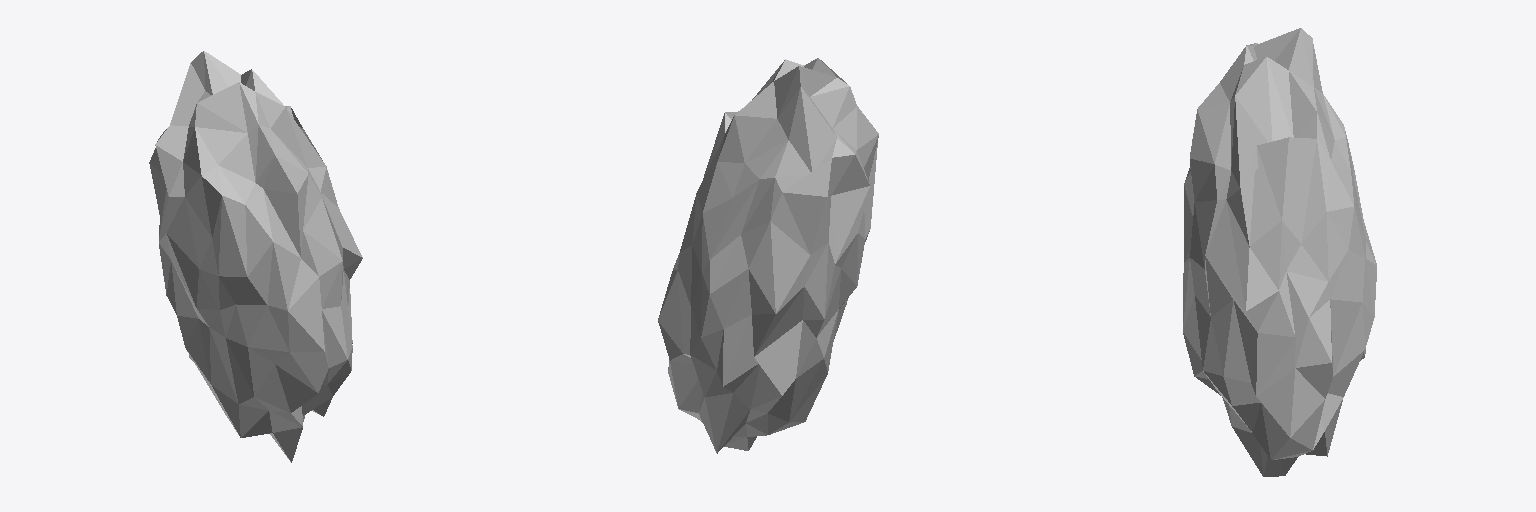
File: lava2.obj
The picture shows the model from 3 angles: view 1: azimuth 30°, elevation 25°; view 2: azimuth 150°, elevation 25°; view 3: azimuth 270°, elevation 25°; orthographic projection.
Parts seen in each view (by area): view 1: Icosphere.001; view 2: Icosphere.001; view 3: Icosphere.001.
Boxes of the visible parts, x1,y1,x2,y2 form: Icosphere.001: [149, 51, 362, 462]; Icosphere.001: [658, 58, 878, 453]; Icosphere.001: [1183, 28, 1376, 476].
Size of the model in its own units: 1.66 by 3.49 by 1.48.